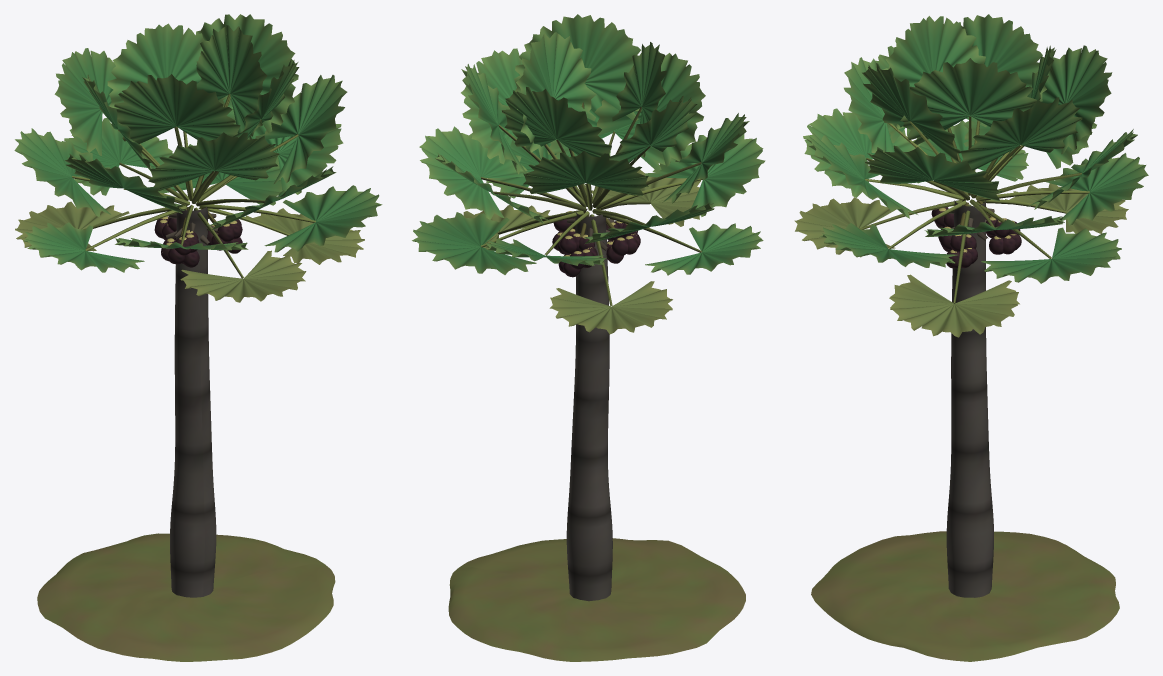
The model's file is tal-palmyra-palm.glb.
3 renders of one model, left to right at view 1: azimuth 30°, elevation 25°; view 2: azimuth 150°, elevation 25°; view 3: azimuth 270°, elevation 25°, orthographic.
Parts seen in each view (by area): view 1: tal-fan-upper, ground, trunk, petioles, fruit; view 2: tal-fan-upper, ground, trunk, petioles, fruit; view 3: tal-fan-upper, ground, trunk, petioles, fruit.
Boxes of the visible parts, box(x1,y1,x2,y2) form: tal-fan-upper: box(14, 14, 382, 302); ground: box(37, 533, 335, 661); trunk: box(166, 206, 218, 597); petioles: box(72, 94, 315, 278); fruit: box(154, 216, 242, 267); tal-fan-upper: box(412, 14, 765, 334); ground: box(448, 538, 745, 661); trunk: box(566, 210, 615, 601); petioles: box(481, 102, 702, 306); fruit: box(552, 212, 640, 277); tal-fan-upper: box(794, 14, 1148, 337); ground: box(811, 531, 1119, 661); trunk: box(946, 200, 994, 597); petioles: box(859, 116, 1089, 303); fruit: box(931, 207, 1021, 268).
Bounding box in the file's own units: 2.36 × 3.94 × 2.25.
